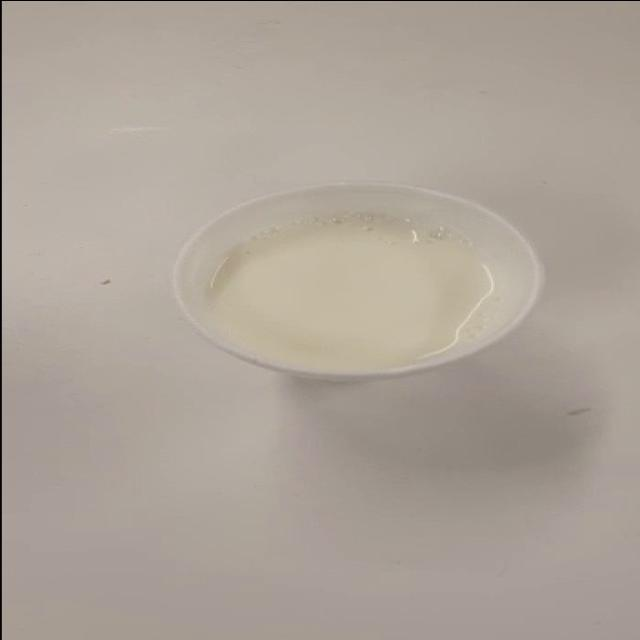Milk: (167, 173, 570, 417)
